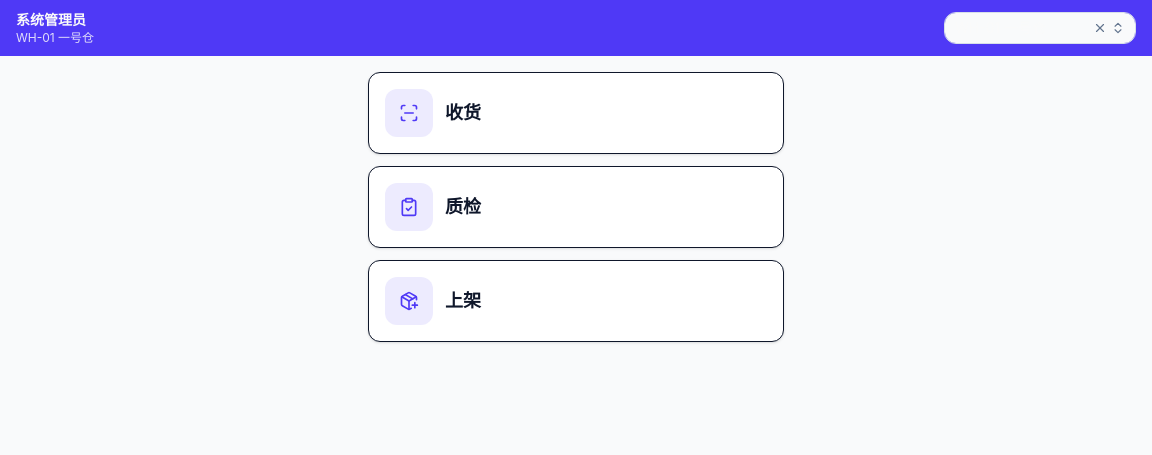
Test: PDA 菜单与入库作业 › PDA 入口使用短路由，不把 pda.* 完整 code 拼进路径
Click the button "收货" at coordinates (409, 113), box x1=368 y1=72 x2=784 y2=154
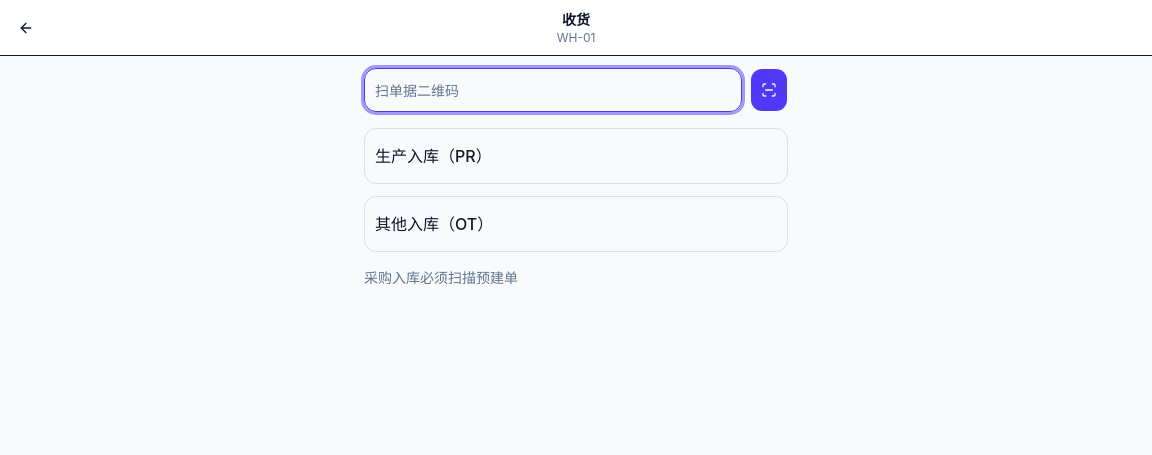
expect the element with test id "pda-menu" is gone: met
Click the button named "返回" at coordinates (26, 28), box x1=12 y1=14 x2=40 y2=42
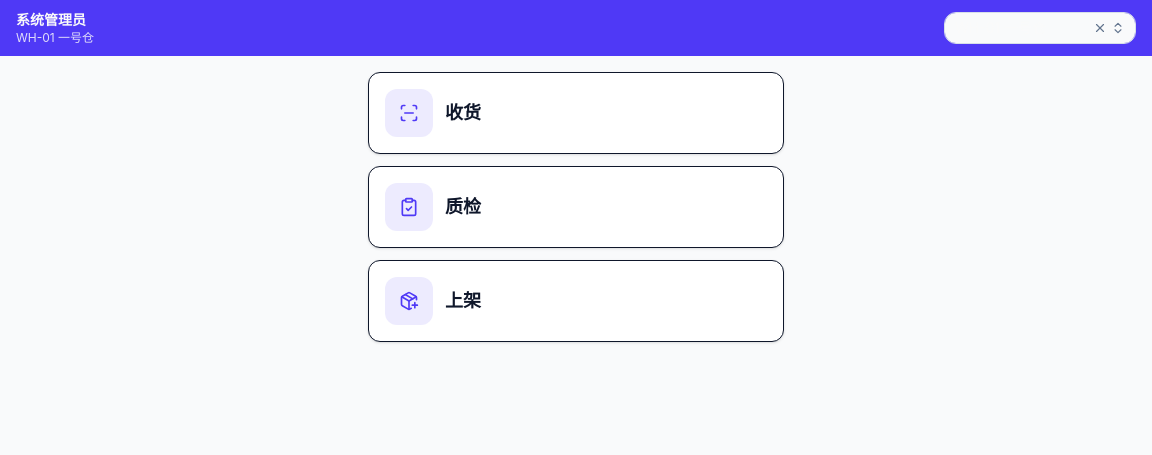
expect the element with test id "pda-menu" is shown: met, box x1=352 y1=56 x2=800 y2=358
Click the button "质检" at coordinates (409, 207), box x1=368 y1=166 x2=784 y2=248
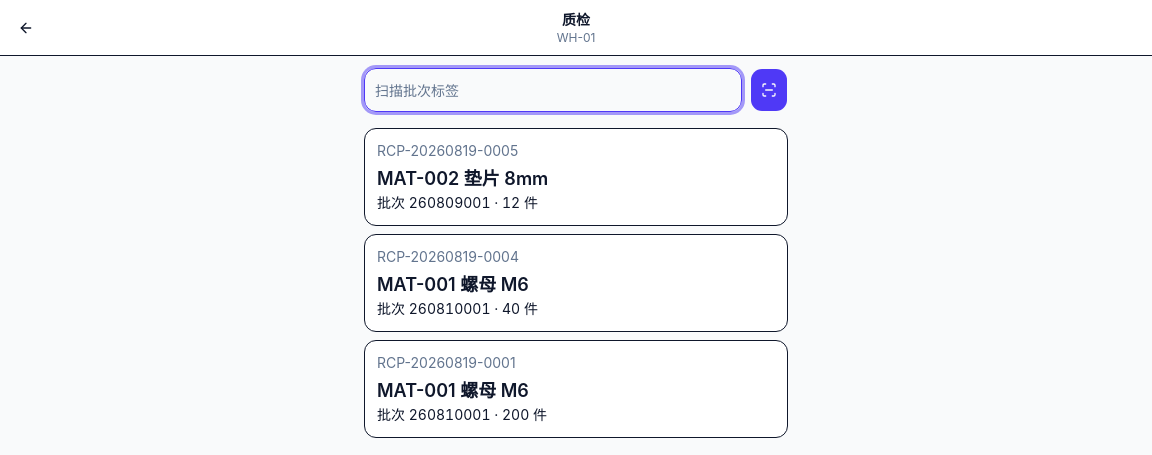
expect the element with test id "pda-menu" is gone: met
Click the button named "返回" at coordinates (26, 28), box x1=12 y1=14 x2=40 y2=42
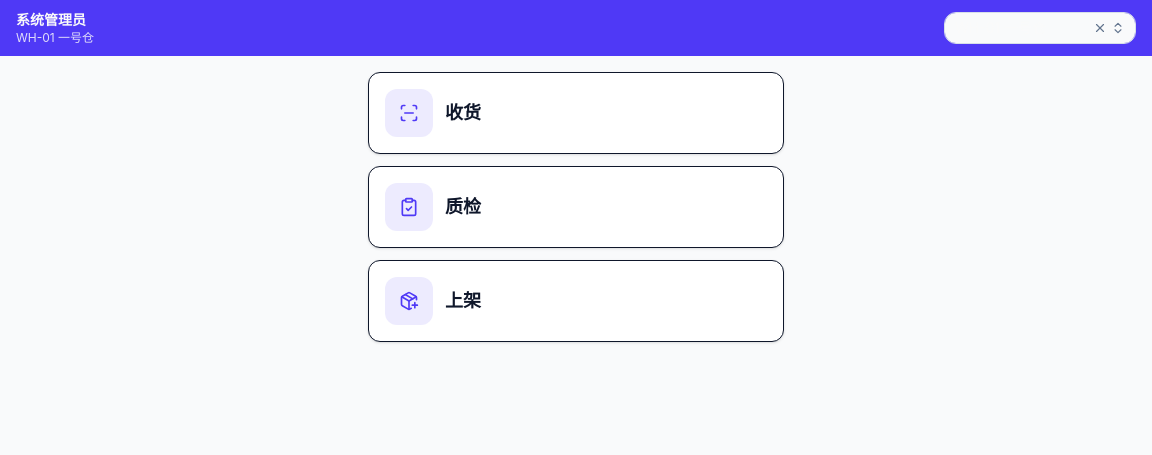
expect the element with test id "pda-menu" is shown: met, box x1=352 y1=56 x2=800 y2=358
Click the button "上架" at coordinates (409, 301), box x1=368 y1=260 x2=784 y2=342
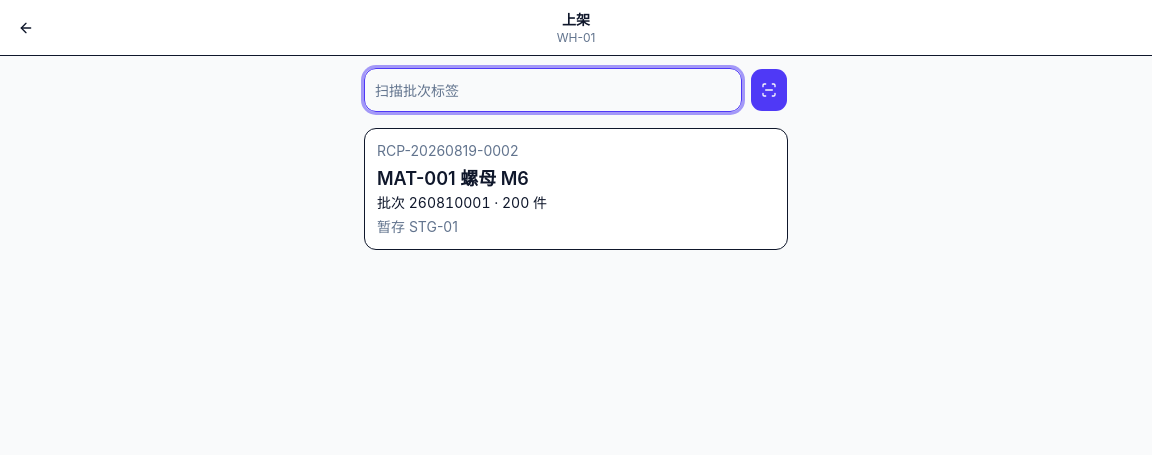
expect the element with test id "pda-menu" is gone: met
Click the button named "返回" at coordinates (26, 28), box x1=12 y1=14 x2=40 y2=42
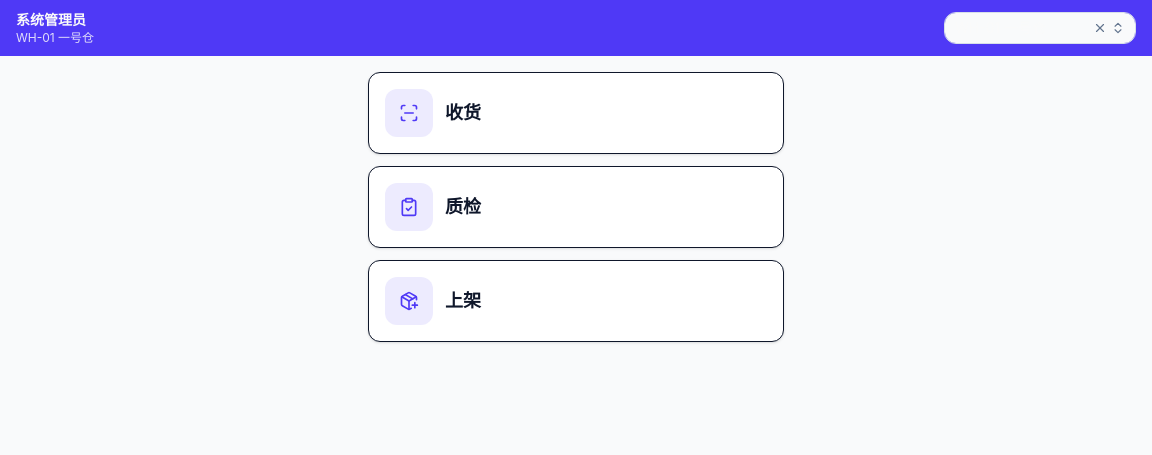
expect the element with test id "pda-menu" is shown: met, box x1=352 y1=56 x2=800 y2=358
